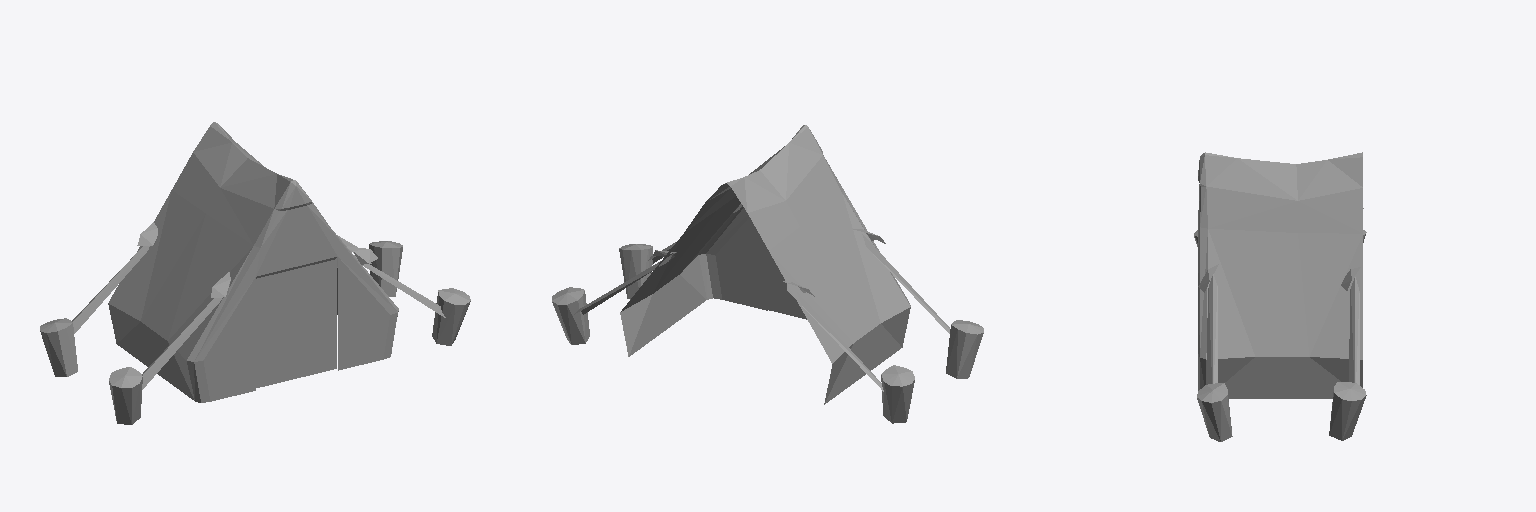
File: tent.obj
3 views of the same model, side by side, from view 1: azimuth 30°, elevation 25°; view 2: azimuth 150°, elevation 25°; view 3: azimuth 270°, elevation 25° (orthographic).
Parts seen in each view (by area): view 1: hobj_tent_01.002; view 2: hobj_tent_01.002; view 3: hobj_tent_01.002.
Part boxes in pixels (bbox=[...]): hobj_tent_01.002: bbox=[40, 122, 470, 424]; hobj_tent_01.002: bbox=[552, 125, 983, 423]; hobj_tent_01.002: bbox=[1194, 152, 1366, 441].
Bounding box in the file's own units: 12.01 × 6.62 × 5.01.